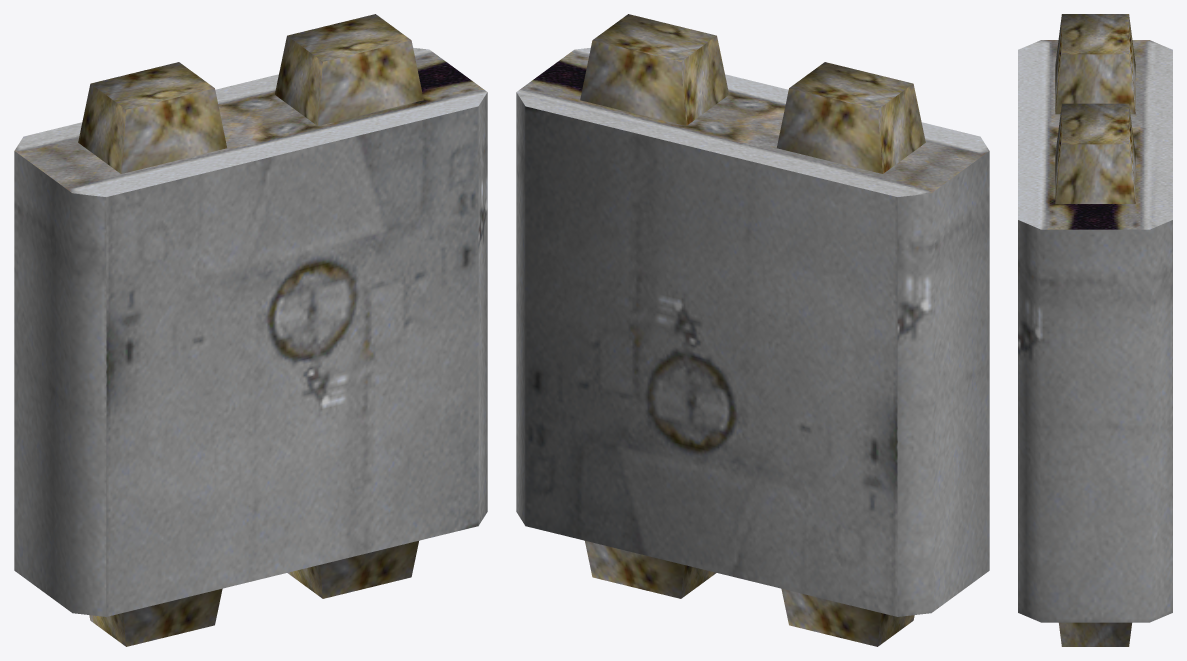
The model's file is experimentrack.DAE.
3 views of the same model, side by side, from view 1: azimuth 30°, elevation 25°; view 2: azimuth 150°, elevation 25°; view 3: azimuth 270°, elevation 25° (orthographic). The views are drawn at different scales.
Visible parts, largest first — view 1: Box01-Pivot; view 2: Box01-Pivot; view 3: Box01-Pivot.
Boxes of the visible parts, left/top/right/bottom form: Box01-Pivot: left=14, top=14, right=487, bottom=646; Box01-Pivot: left=516, top=14, right=989, bottom=646; Box01-Pivot: left=1018, top=14, right=1172, bottom=646.
Size of what is drawn, in the model's own units: 0.6149 by 0.7603 by 0.2124.
